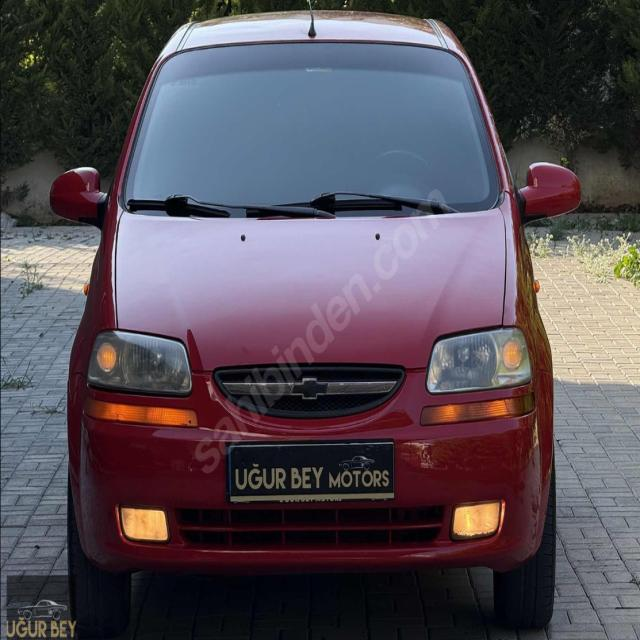chevrolet: (288, 375, 332, 405)
